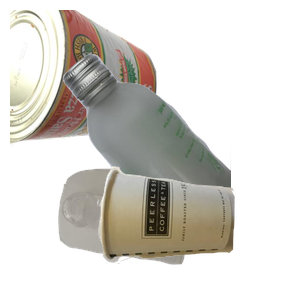glass: (60, 51, 300, 231)
metal: (10, 10, 159, 152)
plastic: (56, 166, 241, 300)
trash: (95, 164, 300, 300)
